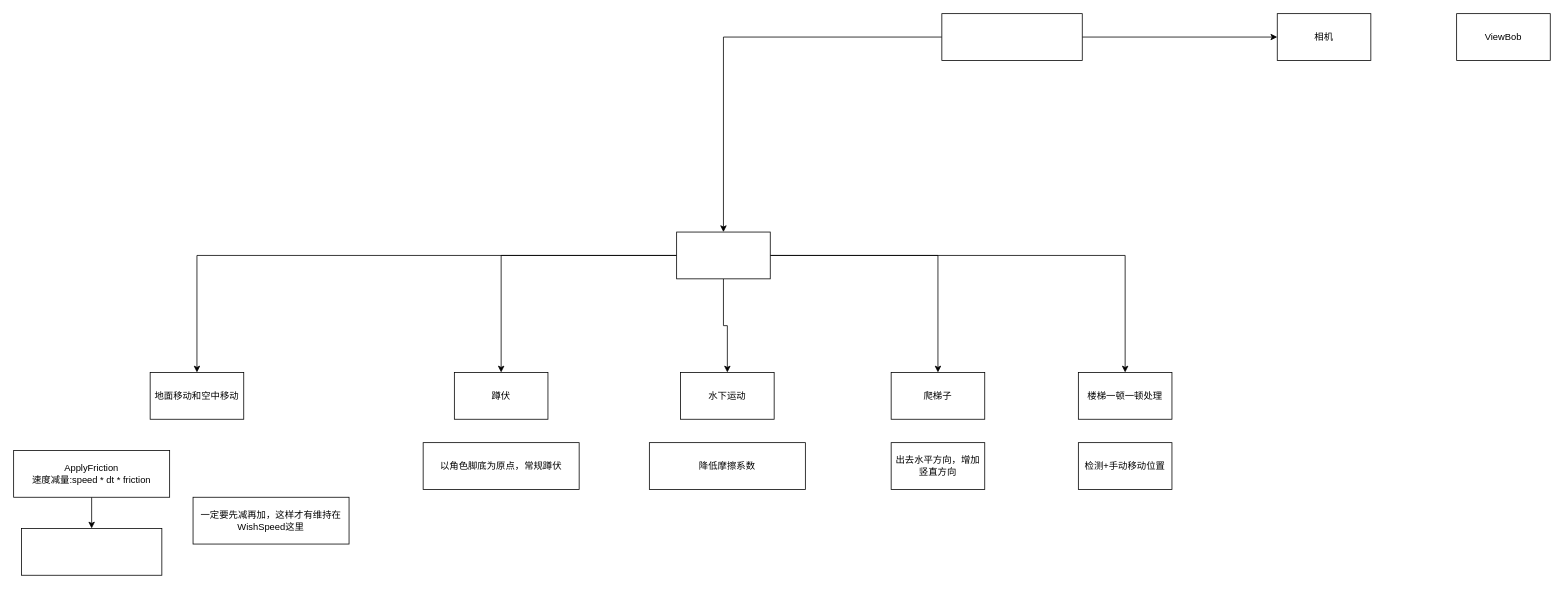
Some shapes in this 1564 by 589 pixel diagram are drawn without their labels. Here are the shapes that lost their labels. From the top down, the centre of each, then its label:
At (x=1011, y=36): "PlayerController : Node3D".
At (x=723, y=255): "移动".
At (x=91, y=551): "ApplyAcceleration 计算出当前速度在wishdir上的投影，得出要加的速度".
